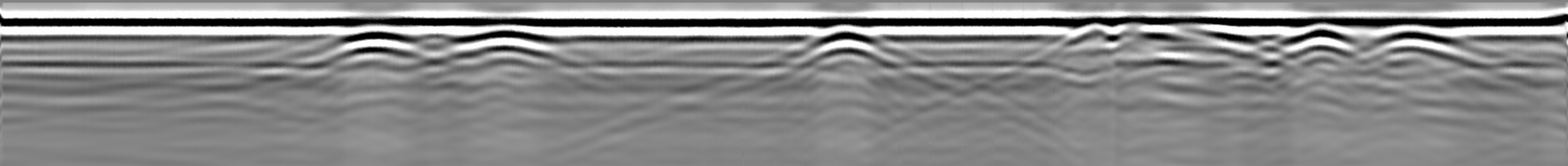pipe: (1061, 16, 1253, 40), (446, 19, 558, 46), (1366, 18, 1460, 43), (334, 18, 424, 43), (803, 18, 887, 42), (1278, 18, 1356, 42)
